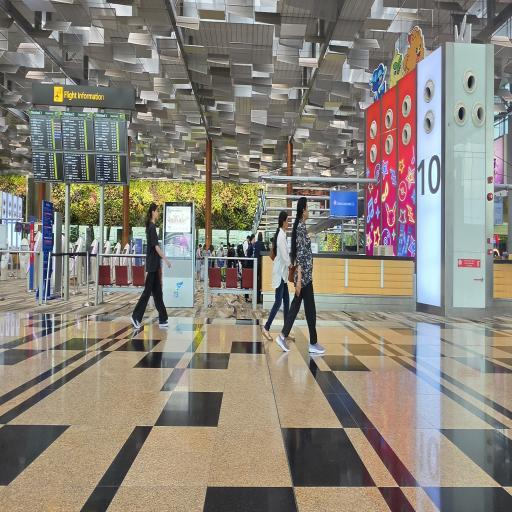person_right: (285, 188, 322, 364), (135, 190, 173, 332), (264, 198, 296, 347)
